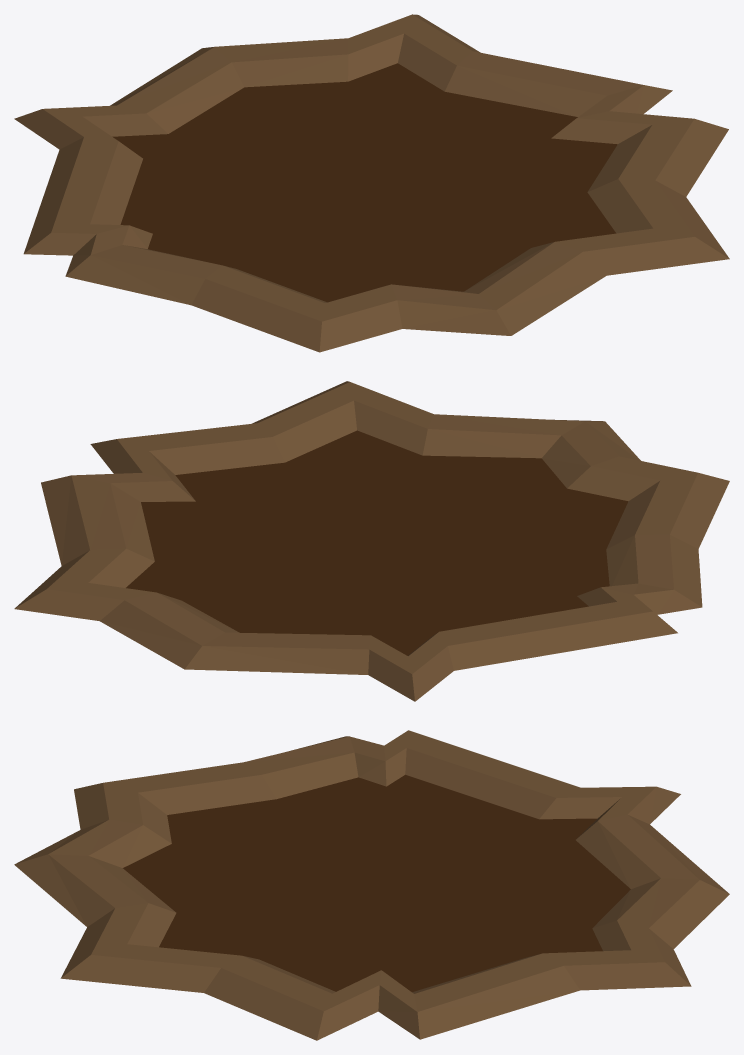
The model's file is RockDigged.fbx.
3 renders of one model, top to bottom at view 1: azimuth 30°, elevation 25°; view 2: azimuth 150°, elevation 25°; view 3: azimuth 270°, elevation 25°, orthographic. The views are drawn at different scales.
Visible parts, largest first — view 1: Hole.003; view 2: Hole.003; view 3: Hole.003.
Boxes of the visible parts, bbox=[...] form: Hole.003: bbox=[14, 14, 729, 352]; Hole.003: bbox=[14, 381, 729, 701]; Hole.003: bbox=[14, 730, 729, 1040].
Size of the model in its own units: 267 by 6 by 262.
